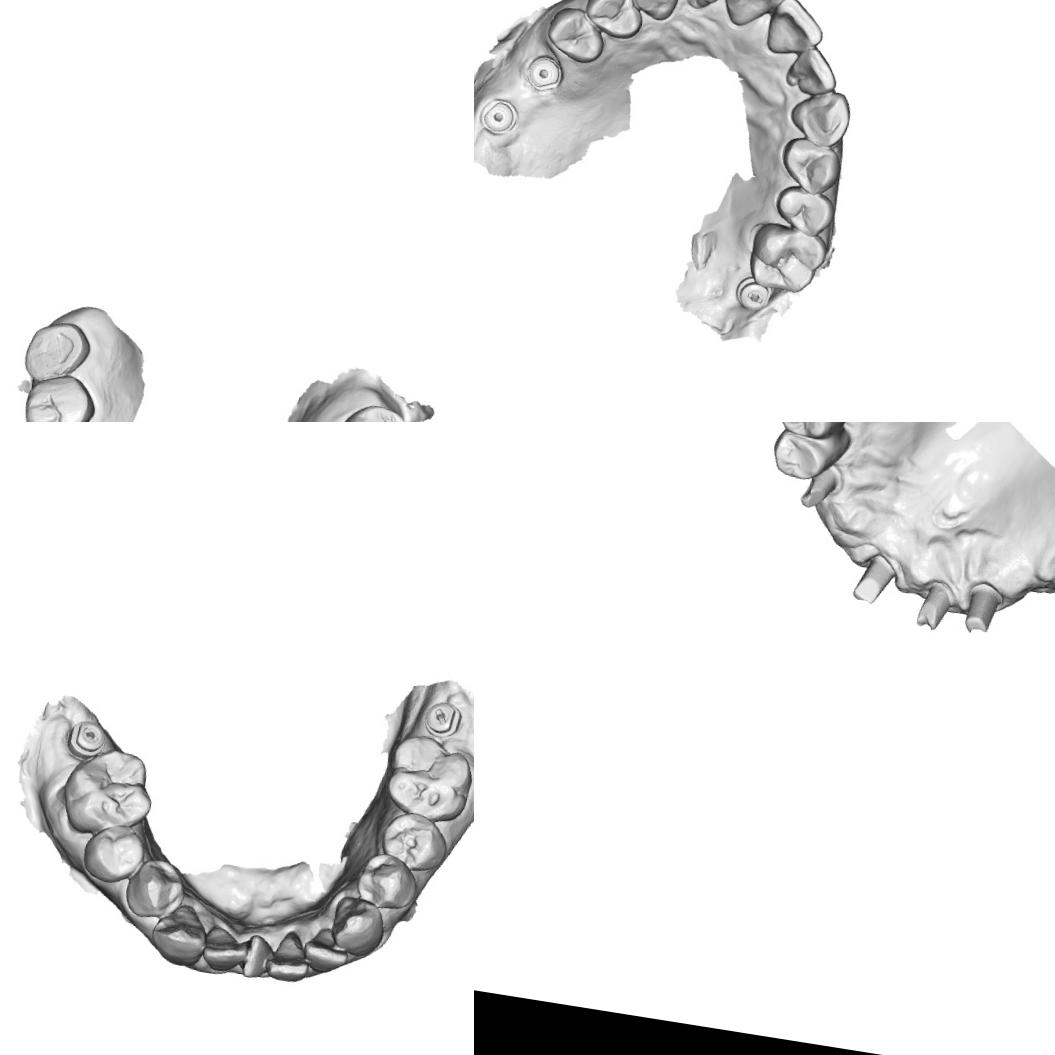abutment: (848, 547, 902, 611), (958, 578, 1009, 640), (910, 576, 958, 635), (795, 458, 842, 514)
canine: (784, 82, 856, 151), (146, 899, 210, 968), (326, 894, 388, 960), (623, 0, 686, 26)
implant: (476, 94, 524, 139), (520, 51, 568, 96)
implant_minus: (730, 274, 776, 317), (423, 699, 464, 739), (64, 715, 105, 755)
incisor: (762, 0, 831, 62), (780, 38, 844, 102), (262, 924, 318, 987), (298, 922, 355, 977), (196, 922, 250, 976), (717, 0, 788, 34), (236, 931, 276, 983), (674, 0, 736, 16)
molar: (54, 740, 162, 845), (379, 729, 474, 827), (744, 219, 832, 300), (20, 317, 95, 390), (19, 366, 100, 422), (334, 399, 418, 422)
premolar: (765, 422, 853, 487), (373, 808, 454, 876), (75, 818, 151, 890), (119, 852, 190, 929), (350, 849, 422, 918), (775, 133, 846, 201), (541, 0, 611, 68), (771, 181, 839, 242), (578, 0, 650, 44), (772, 422, 854, 446)
